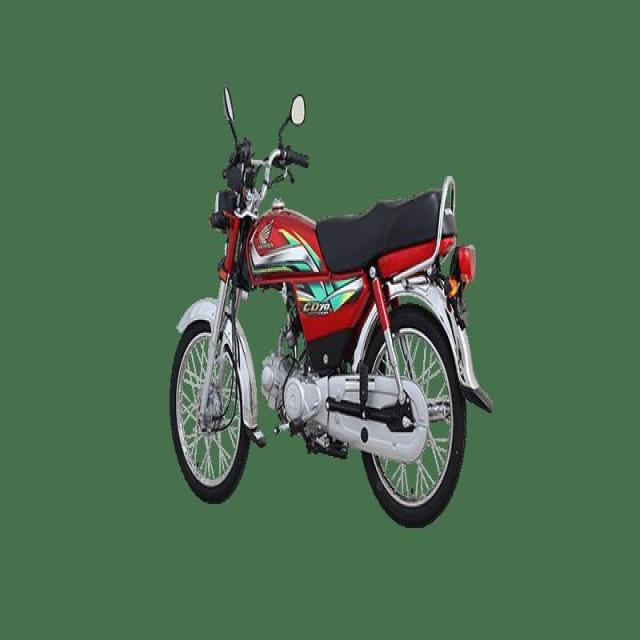motorcycle: (156, 59, 504, 549)
